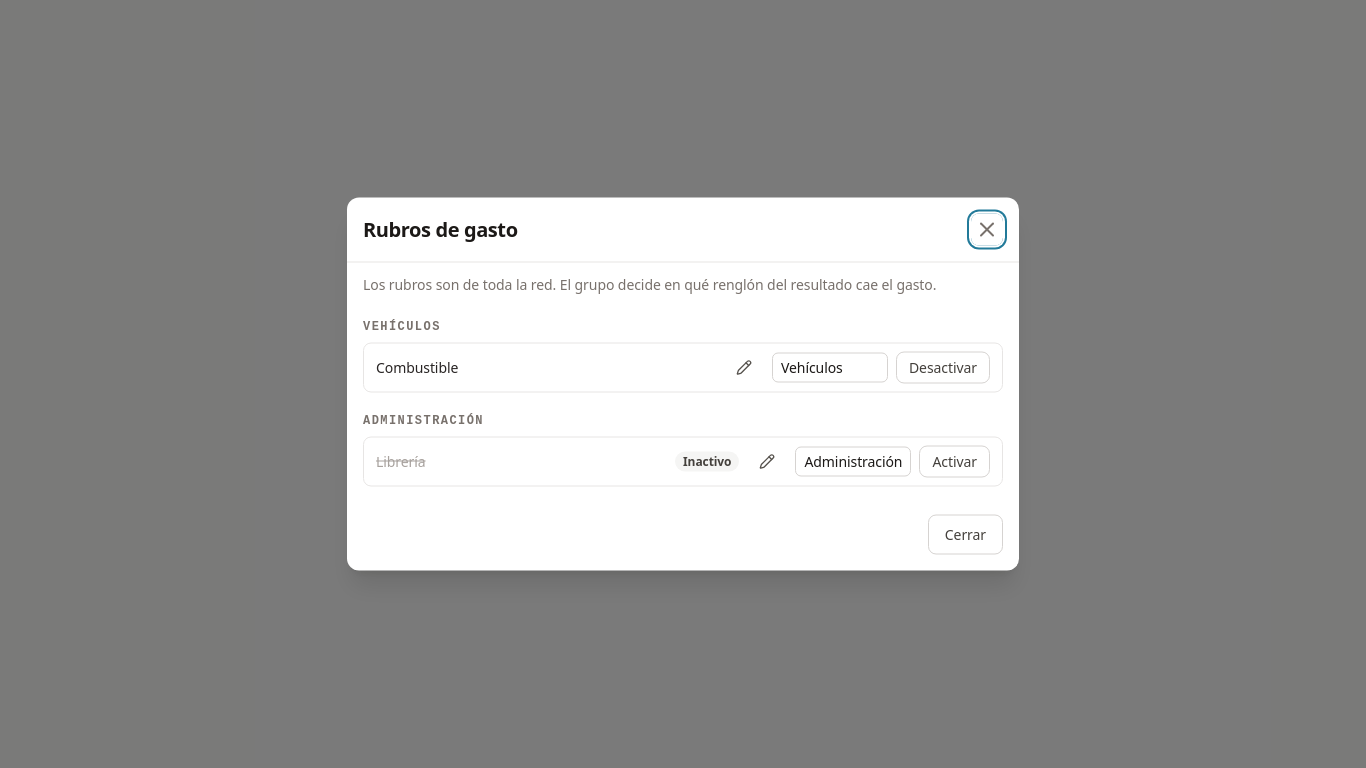
Test case: ModalRubrosGasto › cambiar el grupo y el rechazo del server se muestra tal cual
The image size is (1366, 768).
Select "Otros" in the dropdown named "Grupo de Combustible" at (830, 368), box [772,352,888,382]
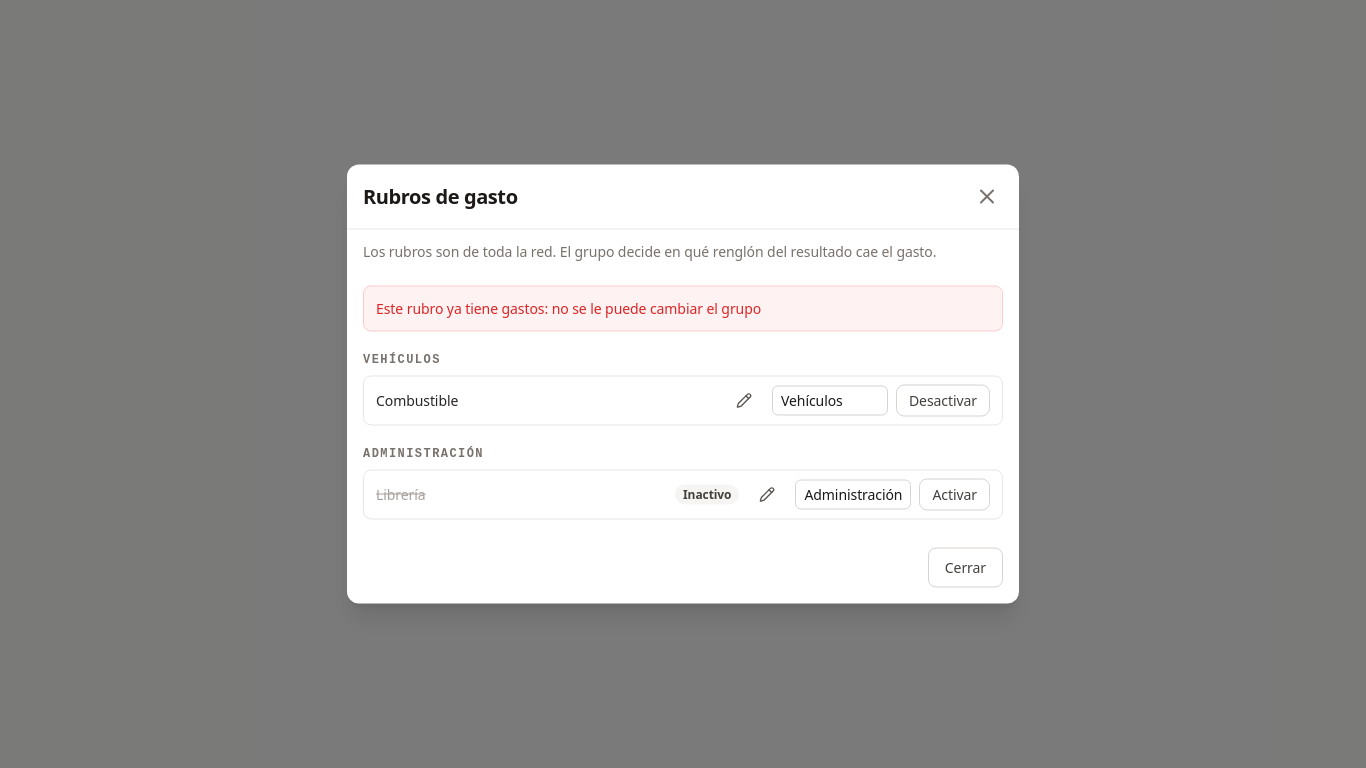
Check: the text "Este rubro ya tiene gastos: no se le puede cambiar el grupo" is shown, box [376,298,761,318]
